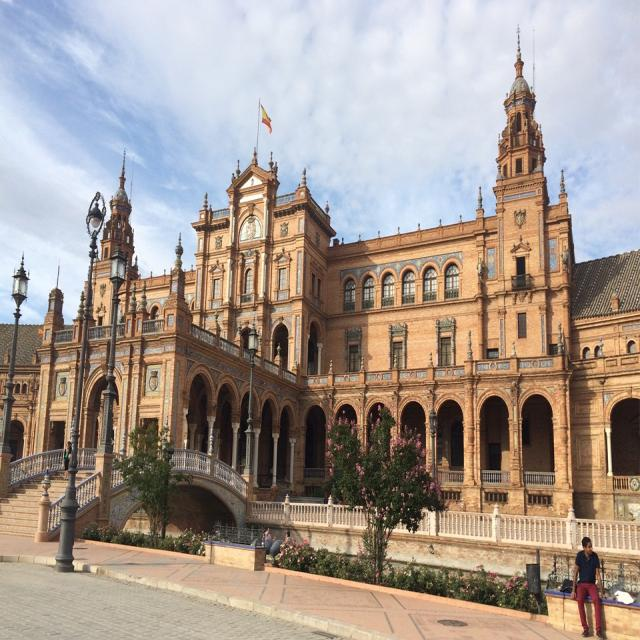body: (569, 535, 610, 639), (261, 526, 293, 546), (62, 438, 71, 482), (66, 442, 74, 481), (323, 486, 330, 505)
